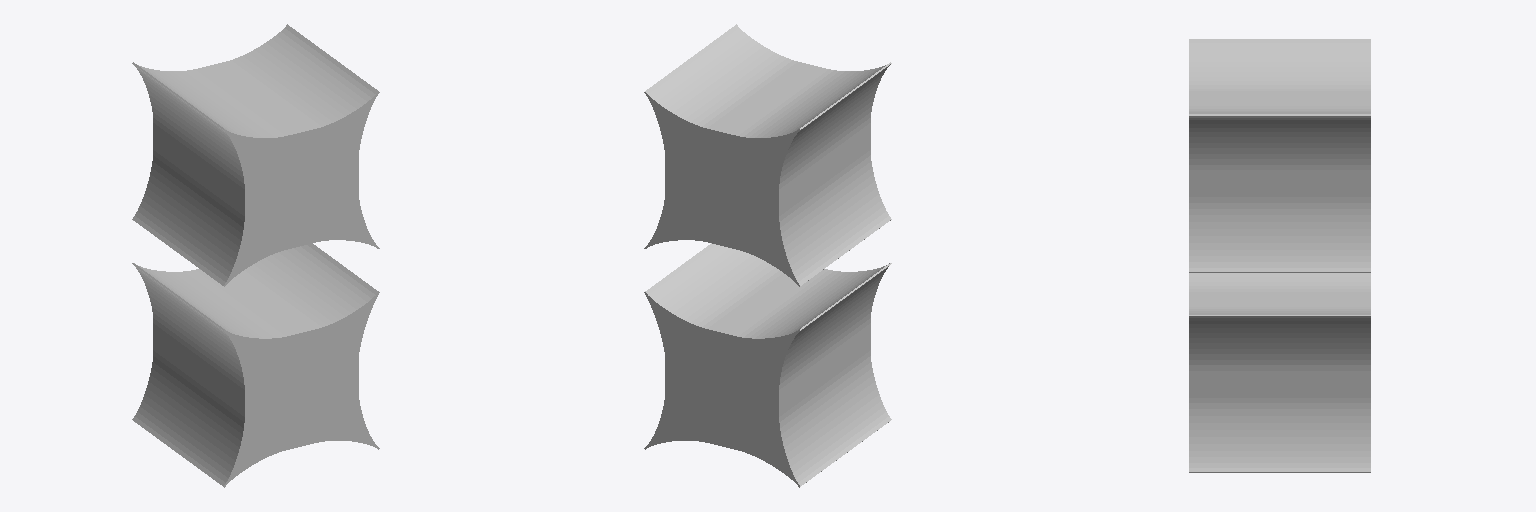
Rendered from colon.obj.
The picture shows the model from 3 angles: view 1: azimuth 30°, elevation 25°; view 2: azimuth 150°, elevation 25°; view 3: azimuth 270°, elevation 25°; orthographic projection.
Visible parts, largest first — view 1: テキスト; view 2: テキスト; view 3: テキスト.
Boxes of the visible parts, box(x1,y1,x2,y2) form: テキスト: box(132, 24, 379, 487); テキスト: box(644, 24, 891, 487); テキスト: box(1189, 39, 1370, 472).
Bounding box in the file's own units: 0.1976 × 0.4332 × 0.2.